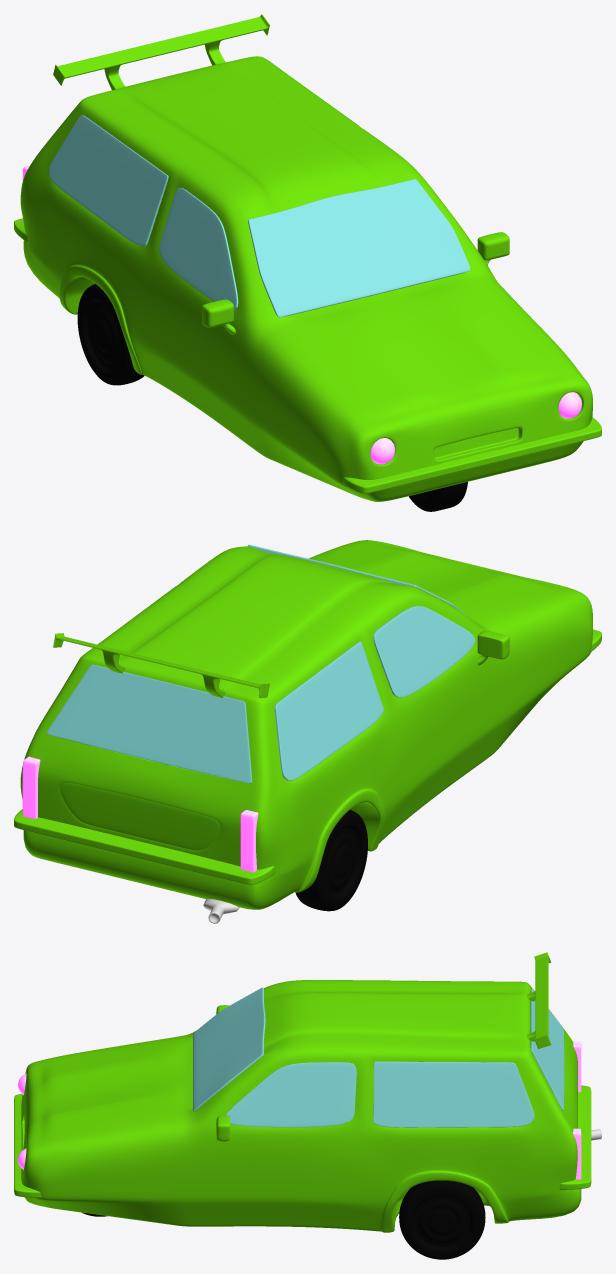
The model's file is Robin.fbx.
The picture shows the model from 3 angles, top to bottom: view 1: azimuth 30°, elevation 25°; view 2: azimuth 150°, elevation 25°; view 3: azimuth 270°, elevation 25°; orthographic projection. The views are drawn at different scales.
Visible parts, largest first — view 1: Chassis, Windows.002, Back Wheel, Spoiler, Bumpers, Mirros, Front Wheel, Front Lights; view 2: Chassis, Windows.002, Bumpers, Back Wheel, Back Lights, Spoiler, Mirros, Exhaust; view 3: Chassis, Windows.002, Back Wheel, Bumpers, Spoiler, Back Lights, Mirros.
Boxes of the visible parts, box(x1,y1,x2,y2) form: Chassis: box(20, 56, 592, 501); Windows.002: box(49, 115, 470, 317); Back Wheel: box(77, 284, 144, 385); Spoiler: box(53, 14, 269, 89); Bumpers: box(14, 195, 601, 493); Mirros: box(202, 232, 509, 334); Front Wheel: box(409, 482, 467, 511); Front Lights: box(370, 392, 582, 464); Chassis: box(20, 540, 592, 909); Windows.002: box(46, 544, 475, 783); Bumpers: box(14, 629, 601, 884); Back Wheel: box(295, 809, 367, 911); Back Lights: box(22, 756, 258, 872); Spoiler: box(53, 633, 269, 697); Mirros: box(477, 630, 509, 665); Exhaust: box(203, 899, 239, 923); Chassis: box(21, 980, 581, 1232); Windows.002: box(193, 987, 564, 1127); Back Wheel: box(399, 1180, 485, 1259); Bumpers: box(14, 1085, 591, 1198); Spoiler: box(527, 952, 551, 1048); Back Lights: box(573, 1041, 581, 1179); Mirros: box(216, 1005, 229, 1141).
Size of the model in its own units: 172 by 146 by 354.
